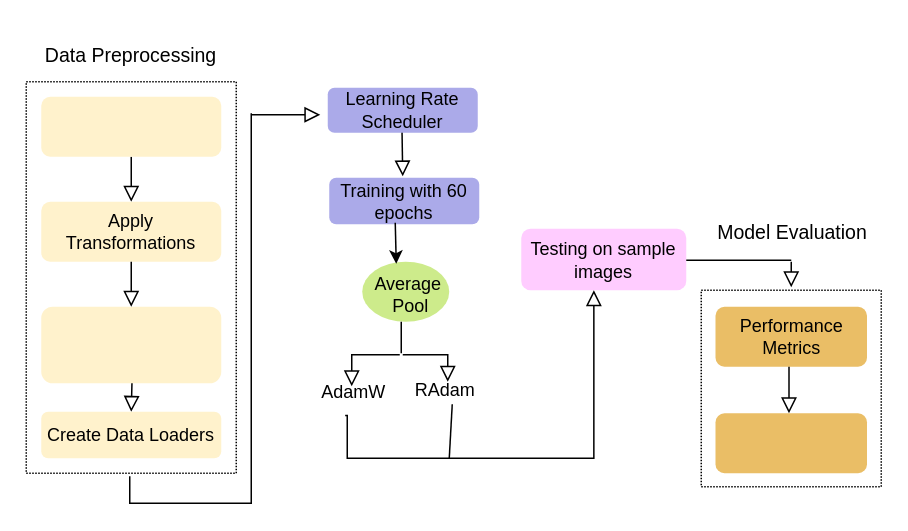
Image size: 908x531. Some labels were removed from this diagram. The box of each missing label's shape, as (x1, y1, x2, y2) in pixels:
Load Images and Masks: (40, 96, 220, 156)
ROC curve: (715, 412, 866, 472)
Split into Training, Validation and Test Sets: (40, 306, 220, 382)
